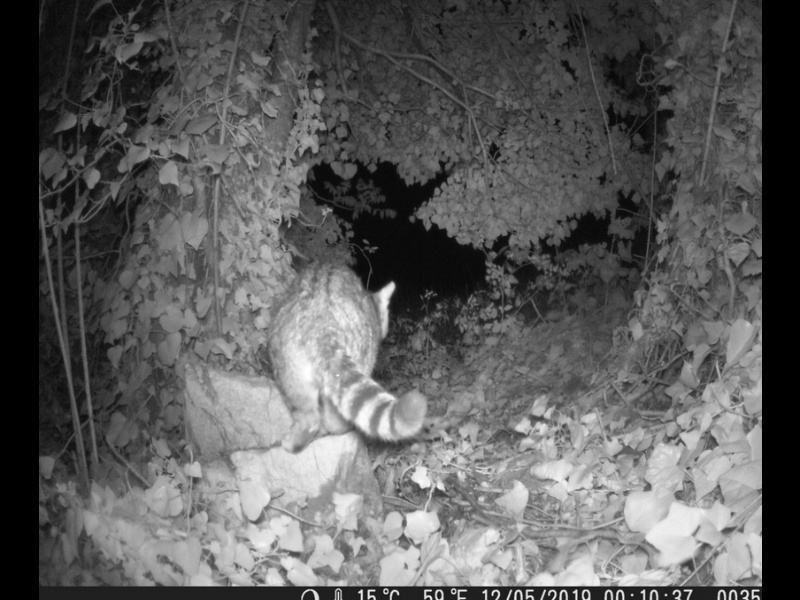cat: (258, 255, 431, 451)
